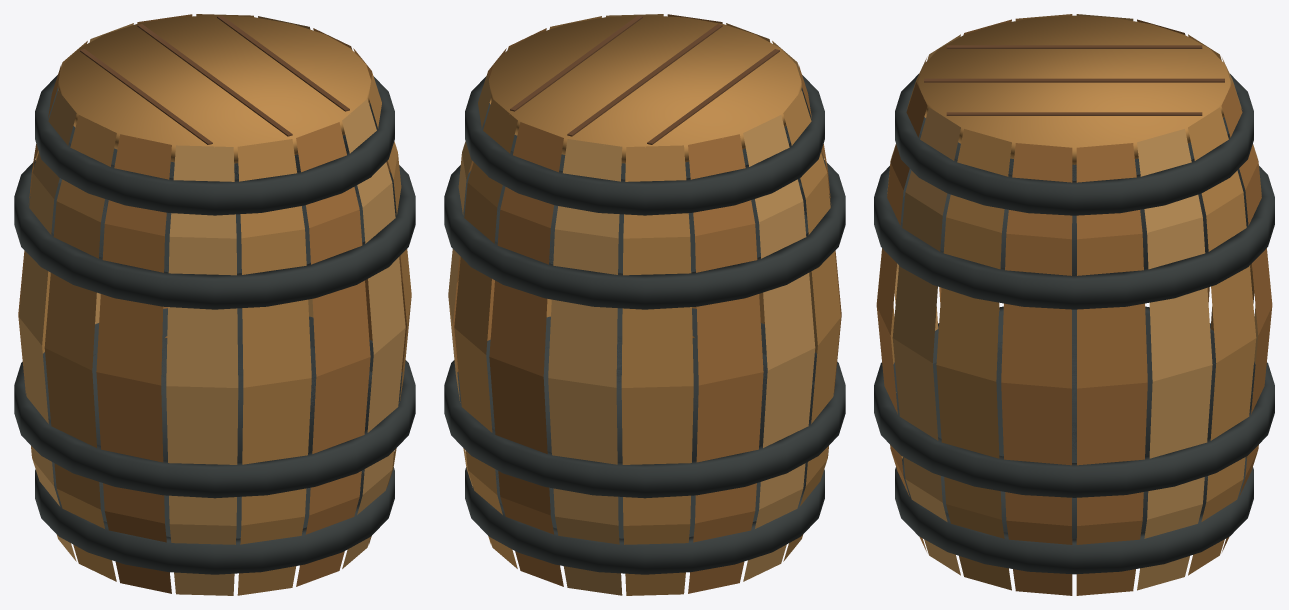
File: 15_barrel.glb
The picture shows the model from 3 angles, left to right: view 1: azimuth 30°, elevation 25°; view 2: azimuth 150°, elevation 25°; view 3: azimuth 270°, elevation 25°; orthographic projection.
Parts seen in each view (by area): view 1: Barrel lid, Barrel stave.010, Barrel stave.011, Barrel stave.009, Barrel hoop.001, Barrel hoop.002, Barrel stave.012, Barrel hoop.003, Barrel stave.008, Barrel hoop, Barrel stave.013, Barrel stave.007 (+4 smaller); view 2: Barrel lid, Barrel stave.005, Barrel stave.004, Barrel stave.006, Barrel hoop.001, Barrel hoop.002, Barrel stave.003, Barrel hoop.003, Barrel stave.007, Barrel hoop, Barrel stave.002, Barrel stave.008 (+4 smaller); view 3: Barrel lid, Barrel stave, Barrel stave.015, Barrel hoop.001, Barrel stave.001, Barrel stave.014, Barrel hoop.002, Barrel hoop.003, Barrel hoop, Barrel stave.002, Barrel stave.013, Barrel stave.003 (+4 smaller).
Part boxes in pixels (x1,y1,x2,y2): Barrel lid: (58,15,370,163); Barrel stave.010: (166,145,238,595); Barrel stave.011: (237,139,311,595); Barrel stave.009: (96,134,171,593); Barrel hoop.001: (14,308,415,498); Barrel hoop.002: (14,160,415,309); Barrel stave.012: (296,122,370,586); Barrel hoop.003: (35,75,394,215); Barrel stave.008: (44,115,116,581); Barrel hoop: (35,462,394,574); Barrel stave.013: (342,99,405,568); Barrel stave.007: (19,90,76,561); Barrel lid: (489,15,801,163); Barrel stave.005: (621,145,693,595); Barrel stave.004: (548,139,622,595); Barrel stave.006: (688,134,763,593); Barrel hoop.001: (444,308,845,498); Barrel hoop.002: (444,160,845,309); Barrel stave.003: (489,122,563,586); Barrel hoop.003: (465,75,824,215); Barrel stave.007: (743,115,815,581); Barrel hoop: (465,462,824,574); Barrel stave.002: (454,99,517,568); Barrel stave.008: (783,90,840,561); Barrel lid: (918,15,1230,164); Barrel stave: (1076,143,1147,595); Barrel stave.015: (1001,143,1072,595); Barrel hoop.001: (874,306,1274,497); Barrel stave.001: (1137,129,1212,590); Barrel stave.014: (936,129,1011,590); Barrel hoop.002: (874,166,1274,309); Barrel hoop.003: (895,74,1253,215); Barrel hoop: (895,457,1253,574); Barrel stave.002: (1188,107,1256,575); Barrel stave.013: (892,107,960,575); Barrel stave.003: (1221,82,1272,551).
Bounding box in the file's own units: 0.8508 × 1.05 × 0.8508.
